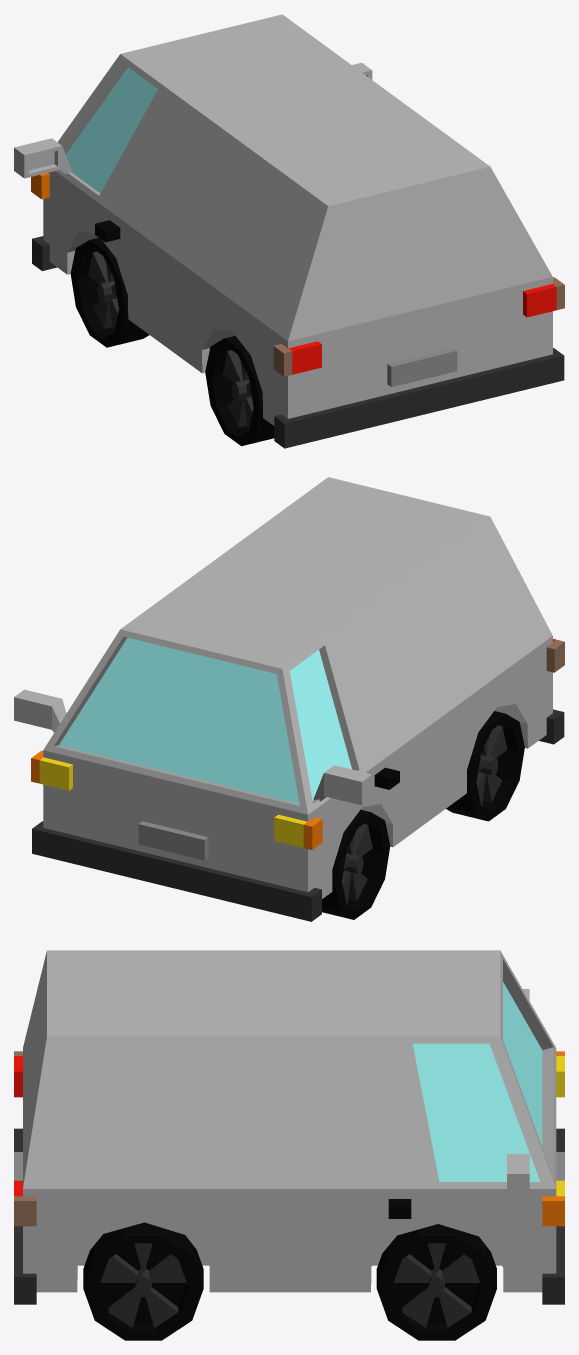
The model's file is ObsticleCar_5.fbx.
3 views of the same model, one above another, from view 1: azimuth 30°, elevation 25°; view 2: azimuth 150°, elevation 25°; view 3: azimuth 270°, elevation 25° (orthographic). The views are drawn at different scales.
Visible parts, largest first — view 1: Cube.001; view 2: Cube.001; view 3: Cube.001.
Boxes of the visible parts, box(x1,y1,x2,y2) form: Cube.001: box(14, 14, 564, 448); Cube.001: box(14, 477, 564, 921); Cube.001: box(14, 950, 564, 1340).
Size of the model in its own units: 328 by 229 by 413.
1 material, 1 textured.
